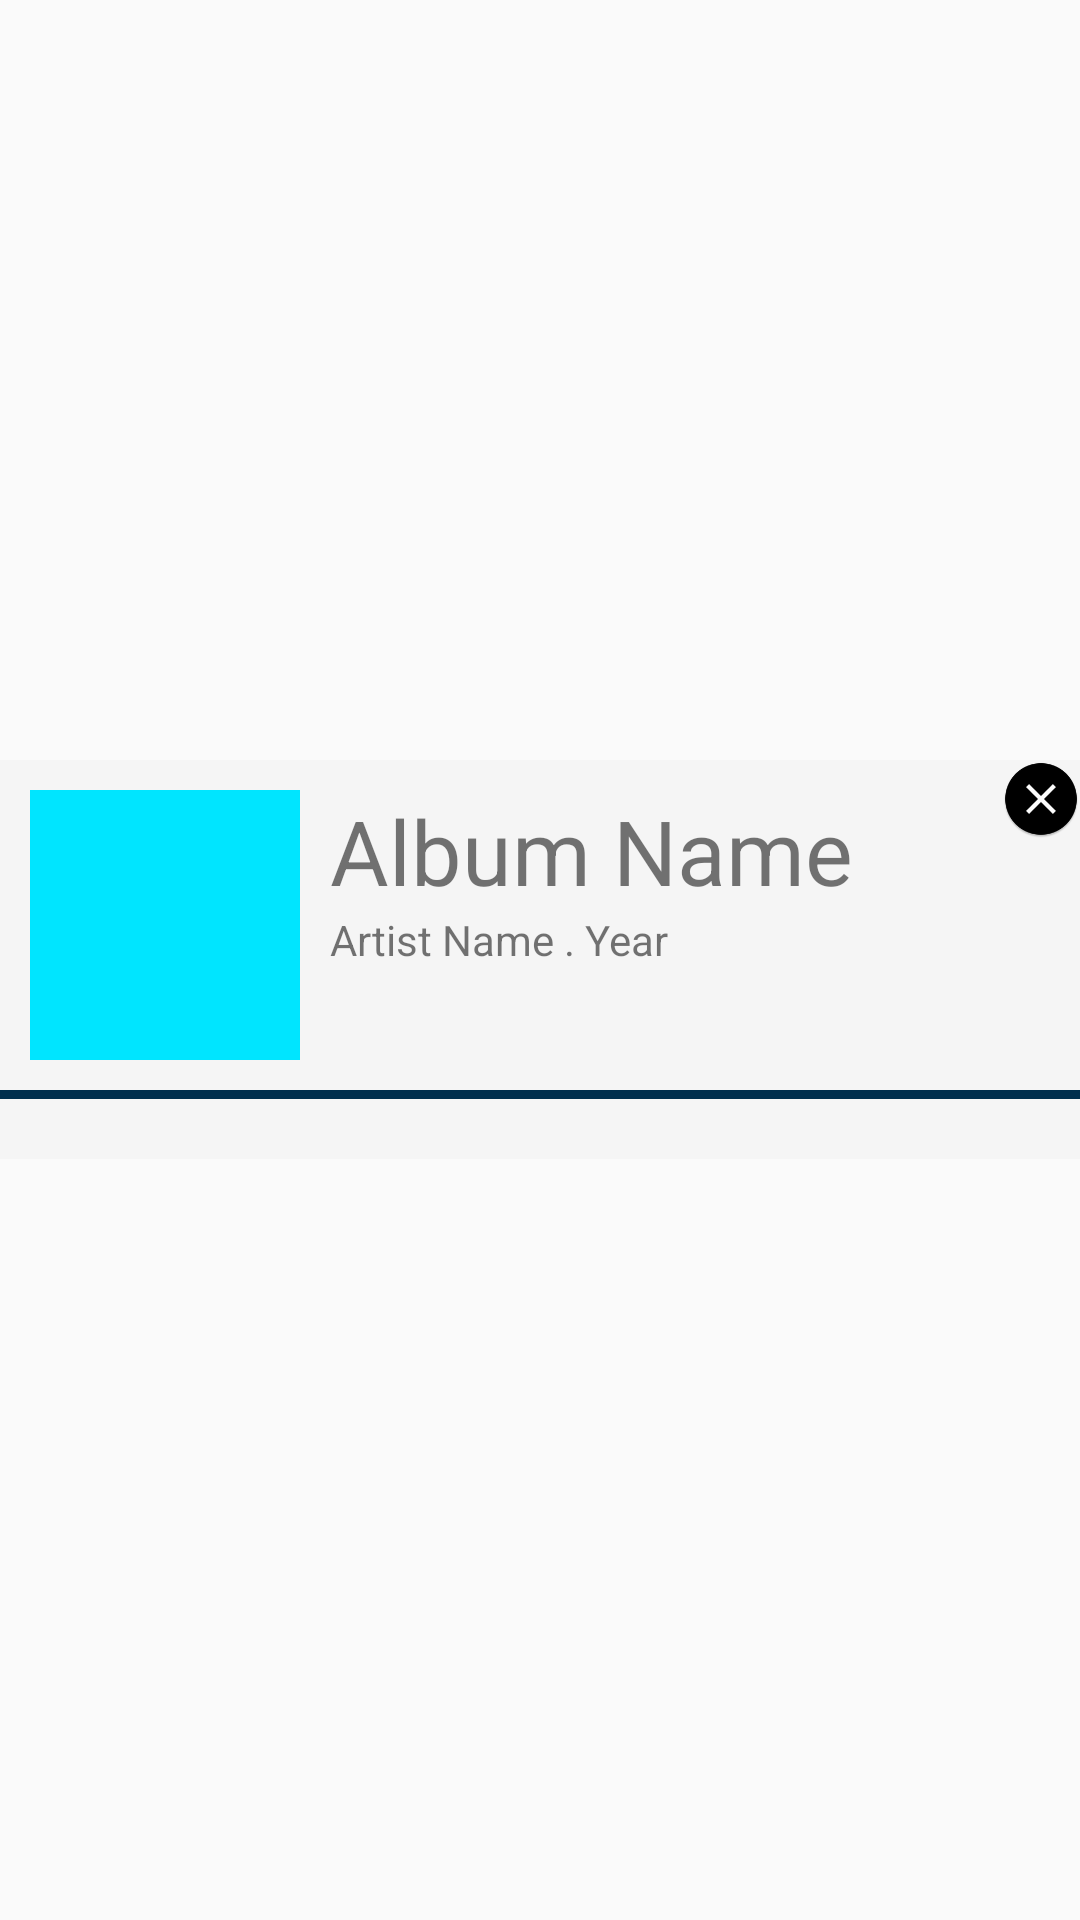

Icons on this 1080x1920 Android screen, each with its box as bbox(x1, y1, x2, y2):
close: bbox(1005, 763, 1077, 837)
